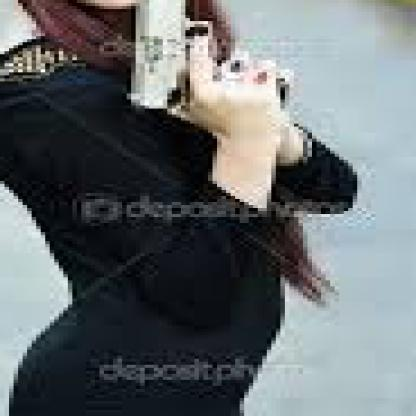gun: (118, 0, 289, 124)
